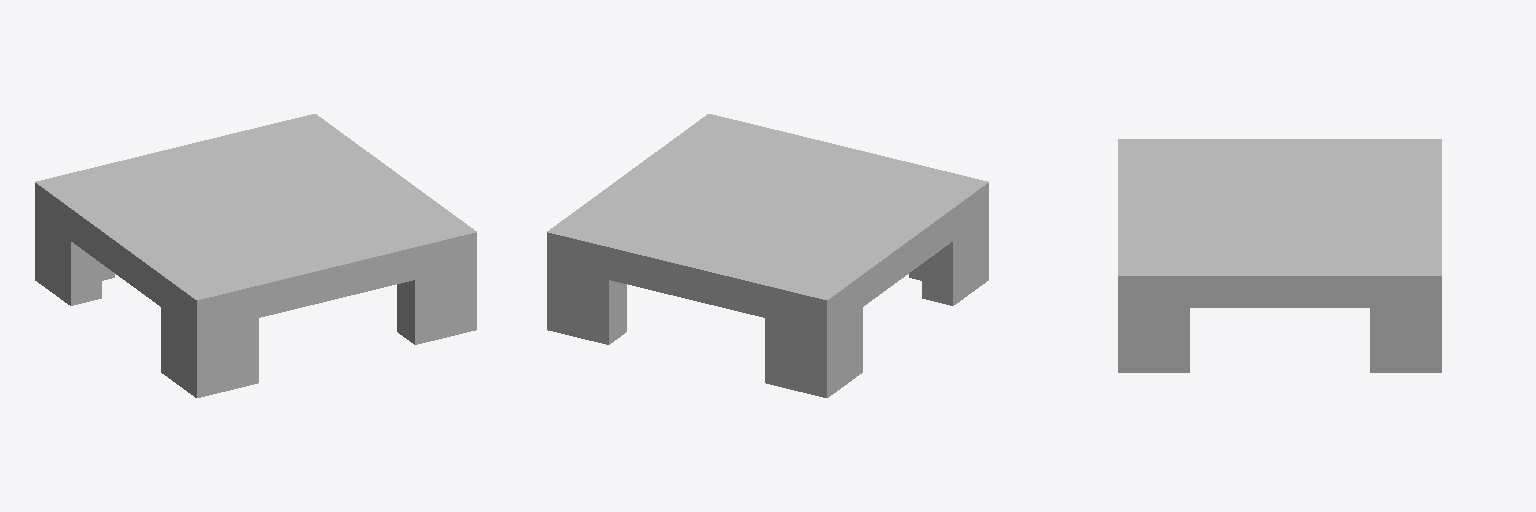
File: rocket_assembly.obj
The picture shows the model from 3 angles: view 1: azimuth 30°, elevation 25°; view 2: azimuth 150°, elevation 25°; view 3: azimuth 270°, elevation 25°; orthographic projection.
Parts seen in each view (by area): view 1: Base, Level; view 2: Base, Level; view 3: Base, Level.
Part boxes in pixels (left/top/right/bottom): Base: left=35, top=114, right=476, bottom=397; Level: left=35, top=115, right=476, bottom=331; Base: left=547, top=114, right=988, bottom=397; Level: left=547, top=114, right=988, bottom=330; Base: left=1118, top=139, right=1441, bottom=372; Level: left=1118, top=139, right=1441, bottom=307.
Bounding box in the file's own units: 9 × 3 × 9.